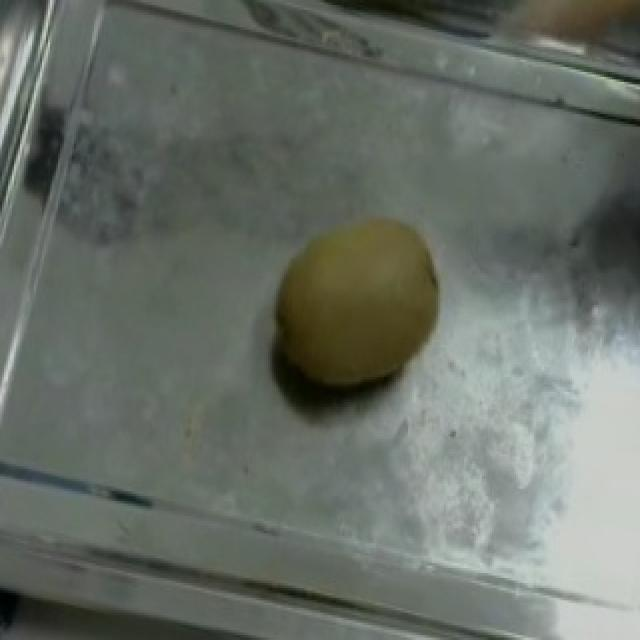Fruit: (244, 186, 472, 429)
